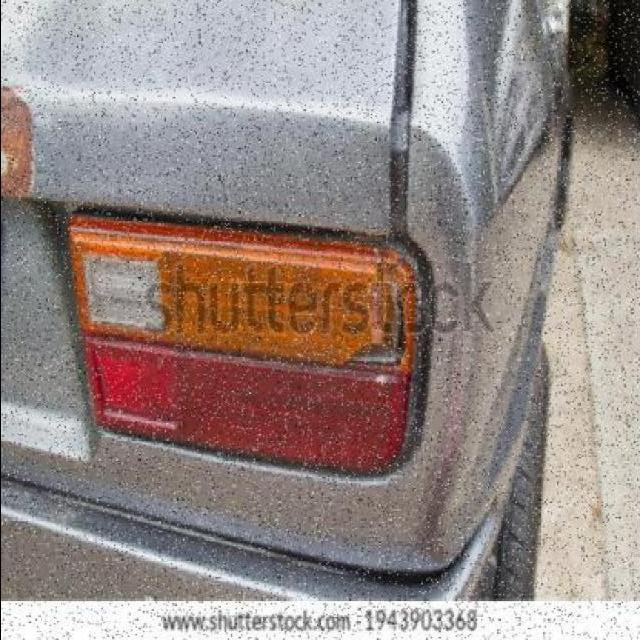Taillight-Damage: (290, 207, 448, 511)
